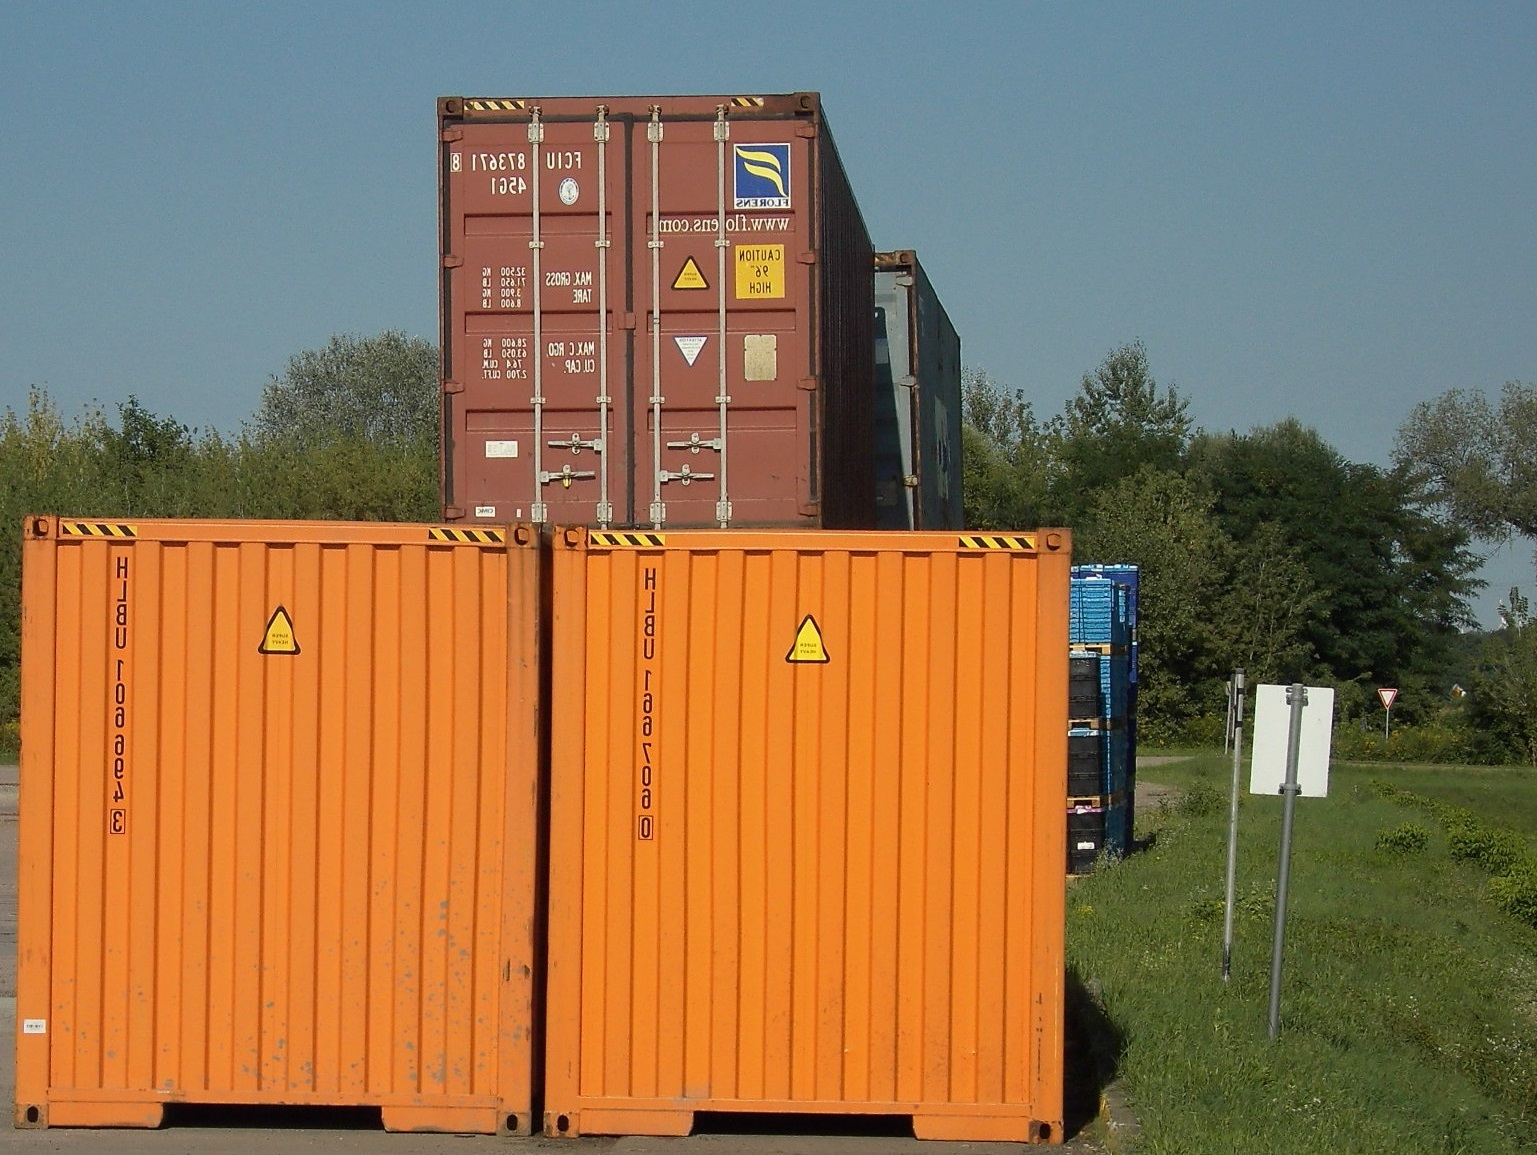container_door: (442, 90, 816, 513)
container_no_door: (19, 513, 533, 1136), (553, 519, 1066, 1142)
